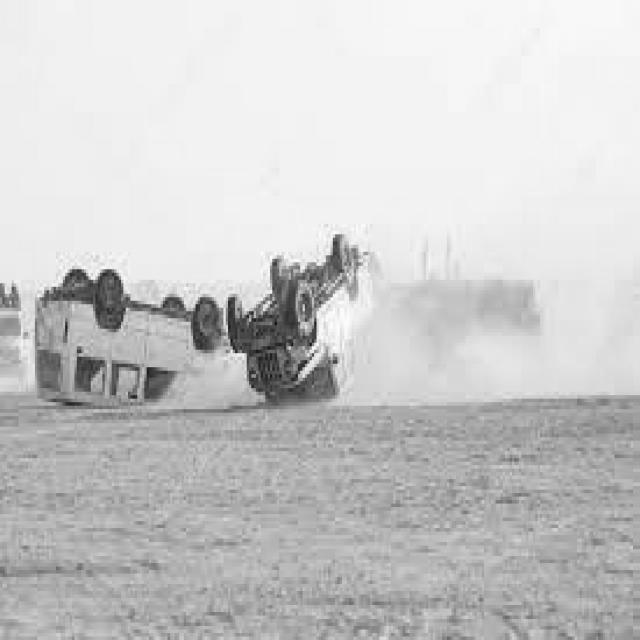accident: (29, 252, 225, 410), (225, 224, 390, 403)
